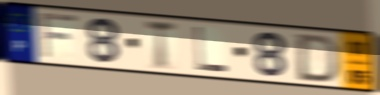8: (252, 30, 289, 79), (86, 16, 123, 65)
D: (294, 33, 342, 85)
F: (37, 10, 80, 61)
L: (192, 25, 230, 74)
T: (143, 19, 178, 72)
